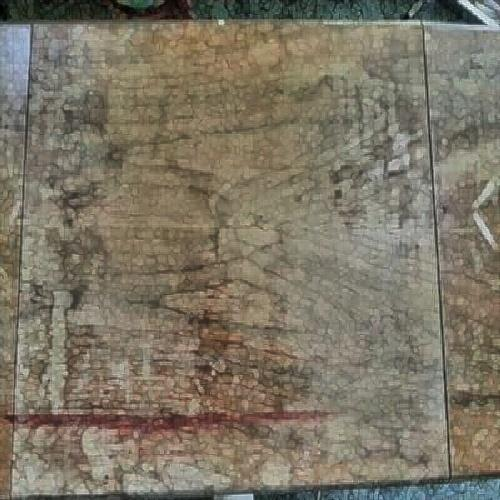table: (33, 22, 448, 481)
